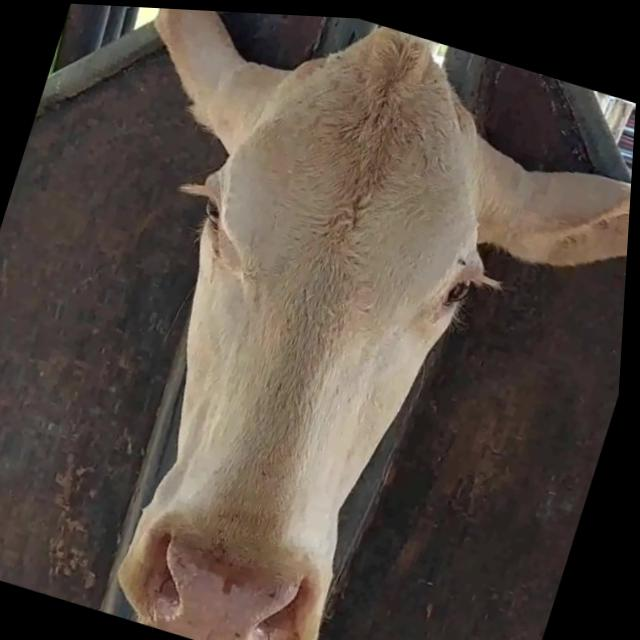cowFace: (83, 5, 539, 640)
